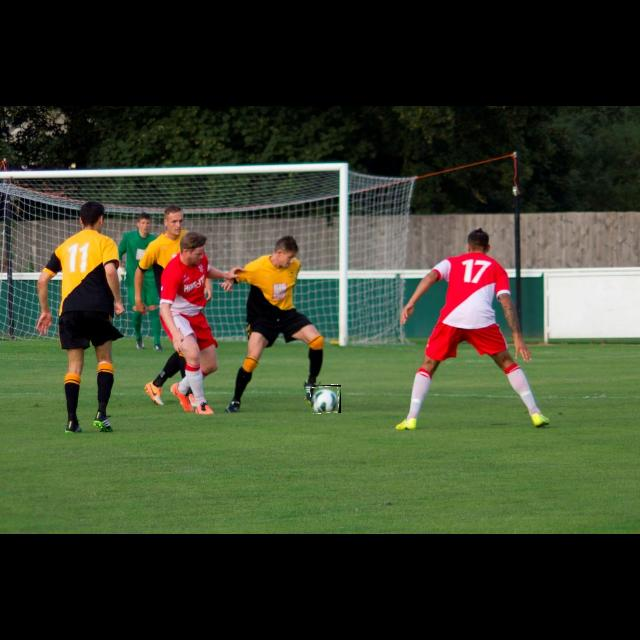Football: (311, 385, 341, 413)
